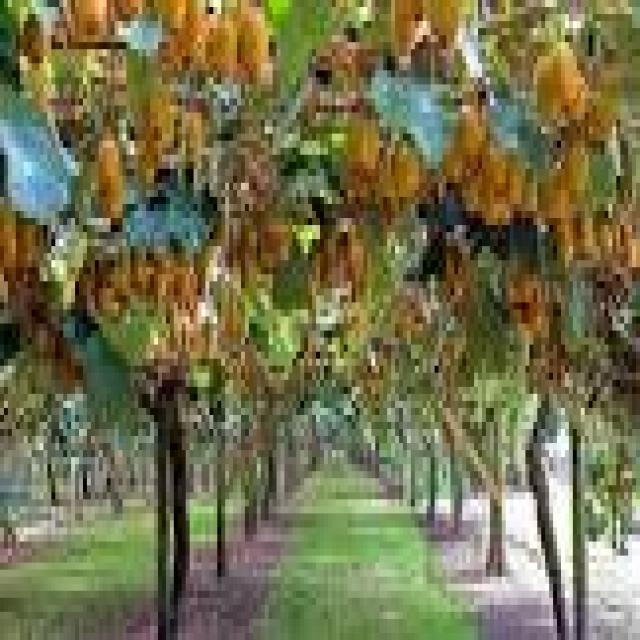kivi: (442, 105, 528, 225), (162, 7, 269, 82), (392, 0, 464, 60), (536, 42, 586, 120), (344, 116, 380, 207), (98, 129, 124, 223), (239, 9, 269, 82), (206, 18, 238, 78), (392, 142, 421, 203), (74, 0, 108, 38)
